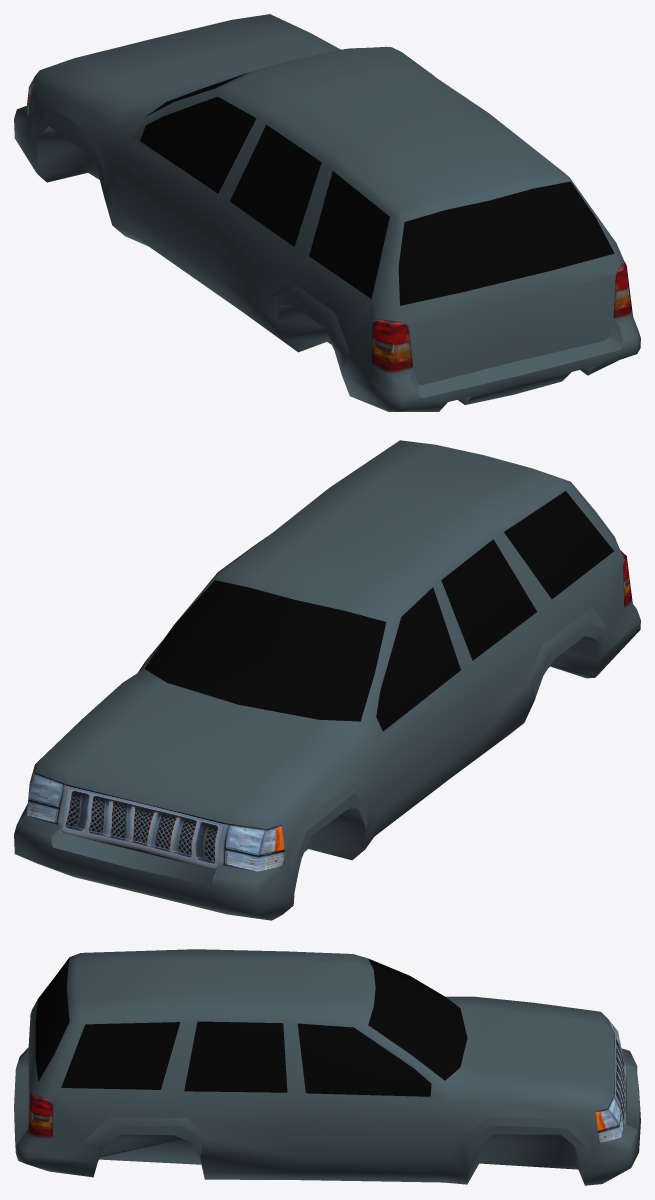
The model's file is BigSUV.fbx.
The picture shows the model from 3 angles, top to bottom: view 1: azimuth 30°, elevation 25°; view 2: azimuth 150°, elevation 25°; view 3: azimuth 270°, elevation 25°; orthographic projection. The views are drawn at different scales.
Visible parts, largest first — view 1: Plane; view 2: Plane; view 3: Plane.
Boxes of the visible parts, x1=… form: Plane: x1=14, y1=14, x2=640, y2=411; Plane: x1=14, y1=440, x2=640, y2=920; Plane: x1=14, y1=949, x2=640, y2=1185.
Size of the model in its own units: 118 by 88.1 by 305.
4 materials, 3 textured.
